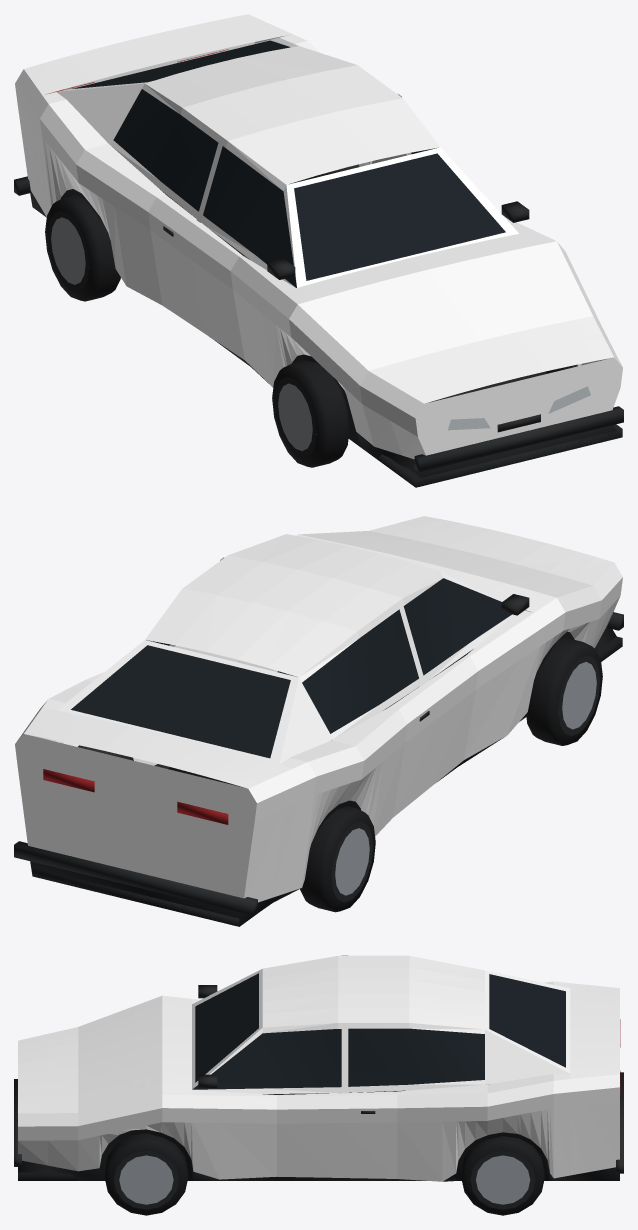
File: feldhaus_andor.glb
3 renders of one model, top to bottom at view 1: azimuth 30°, elevation 25°; view 2: azimuth 150°, elevation 25°; view 3: azimuth 270°, elevation 25°, orthographic. The views are drawn at different scales.
Visible parts, largest first — view 1: Body_Paint, Body_Details, Mount_FrontLeft_Wheel_Details, Mount_RearLeft_Wheel_Details; view 2: Body_Paint, Body_Details, Mount_FrontLeft_Wheel_Details, Mount_RearLeft_Wheel_Details; view 3: Body_Paint, Body_Details, Mount_FrontRight_Wheel_Details, Mount_RearRight_Wheel_Details.
Boxes of the visible parts, box(x1,y1,x2,y2) form: Body_Paint: box(15, 14, 622, 459); Body_Details: box(14, 40, 623, 487); Mount_FrontLeft_Wheel_Details: box(272, 360, 349, 467); Mount_RearLeft_Wheel_Details: box(45, 195, 120, 301); Body_Paint: box(15, 516, 622, 902); Body_Details: box(14, 578, 623, 926); Mount_FrontLeft_Wheel_Details: box(526, 637, 602, 745); Mount_RearLeft_Wheel_Details: box(300, 806, 375, 912); Body_Paint: box(18, 955, 619, 1181); Body_Details: box(14, 973, 623, 1181); Mount_FrontRight_Wheel_Details: box(104, 1133, 188, 1215); Mount_RearRight_Wheel_Details: box(461, 1136, 544, 1215).
Size of the model in its own units: 1.81 by 1.35 by 4.22.
2 materials, 1 textured.
